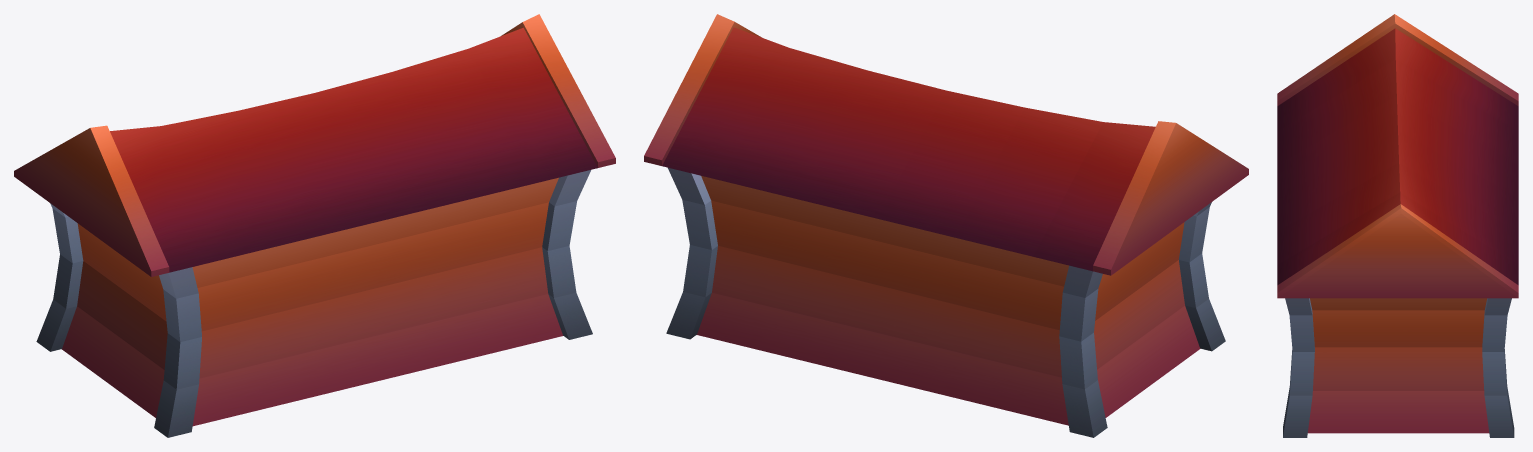
Rendered from House Body 1.fbx.
3 views of the same model, side by side, from view 1: azimuth 30°, elevation 25°; view 2: azimuth 150°, elevation 25°; view 3: azimuth 270°, elevation 25° (orthographic). The views are drawn at different scales.
Parts seen in each view (by area): view 1: House Body 1; view 2: House Body 1; view 3: House Body 1.
Part boxes in pixels (left/top/right/bottom): House Body 1: left=14, top=14, right=615, bottom=437; House Body 1: left=644, top=14, right=1248, bottom=437; House Body 1: left=1277, top=14, right=1518, bottom=437.
Size of the model in its own units: 936 by 516 by 479.
